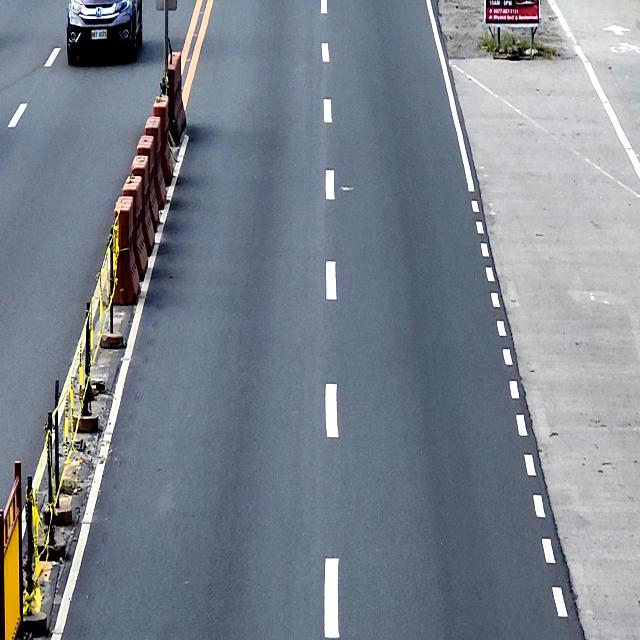Car: (66, 0, 143, 65)
License-Plate: (90, 26, 108, 42)
